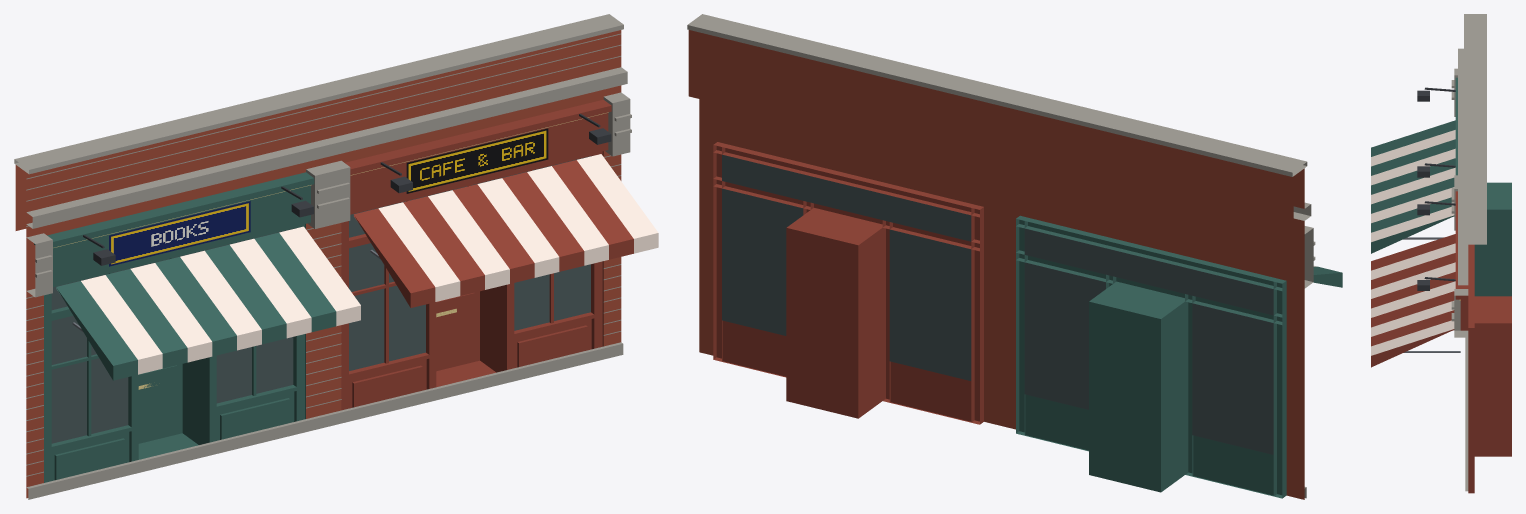
The model's file is base-w1_close.fbx.
3 views of the same model, side by side, from view 1: azimuth 30°, elevation 25°; view 2: azimuth 150°, elevation 25°; view 3: azimuth 270°, elevation 25° (orthographic). The views are drawn at different scales.
Visible parts, largest first — view 1: a2003/700/base-w1_close; view 2: a2003/700/base-w1_close; view 3: a2003/700/base-w1_close.
Part boxes in pixels (bbox=[...]): a2003/700/base-w1_close: bbox=[14, 14, 658, 499]; a2003/700/base-w1_close: bbox=[687, 14, 1342, 499]; a2003/700/base-w1_close: bbox=[1371, 14, 1511, 493].
Bounding box in the file's own units: 8.4 × 4.46 × 2.2.
